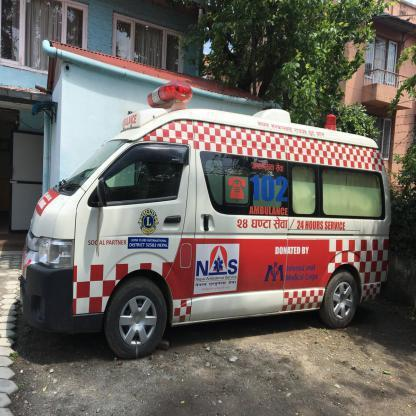ambulance_off: (18, 83, 391, 359)
